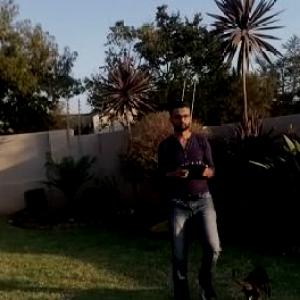follow: (154, 96, 226, 299)
null: (228, 261, 273, 299)
